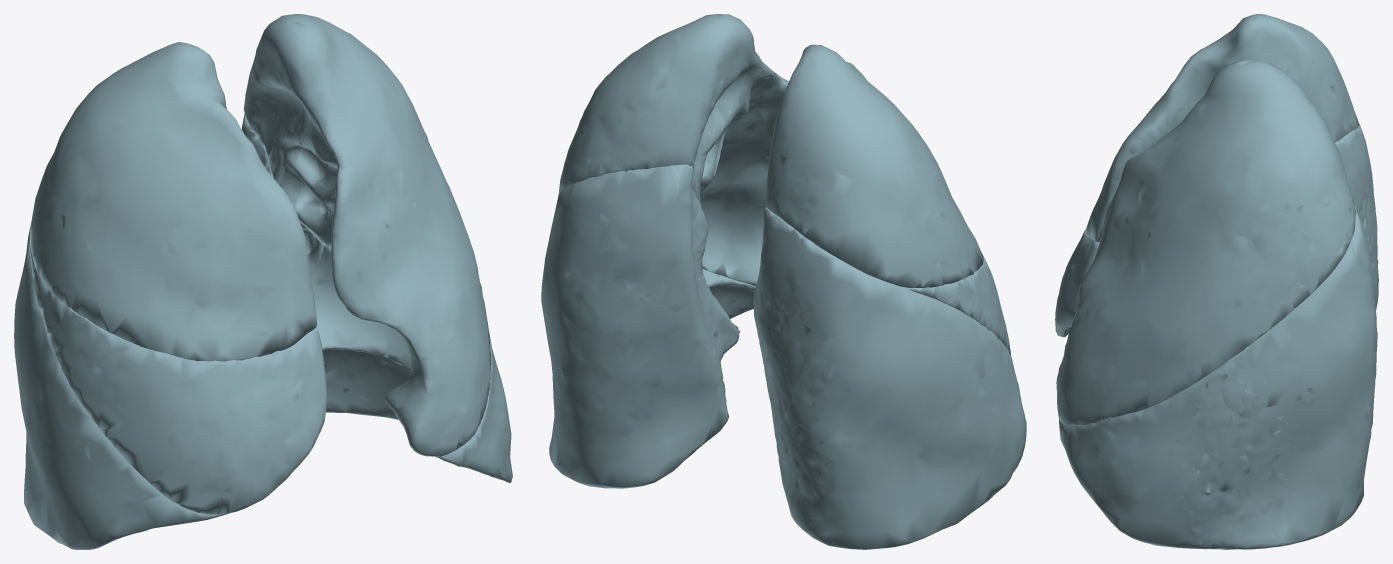
The model's file is lungs.glb.
3 views of the same model, side by side, from view 1: azimuth 30°, elevation 25°; view 2: azimuth 150°, elevation 25°; view 3: azimuth 270°, elevation 25° (orthographic). The views are drawn at different scales.
Visible parts, largest first — view 1: world; view 2: world; view 3: world.
Boxes of the visible parts, x1,y1,x2,y2 form: world: (14,14,512,549); world: (541,14,1026,549); world: (1055,14,1378,549).
Bounding box in the file's own units: 1.96 × 2 × 1.4.
